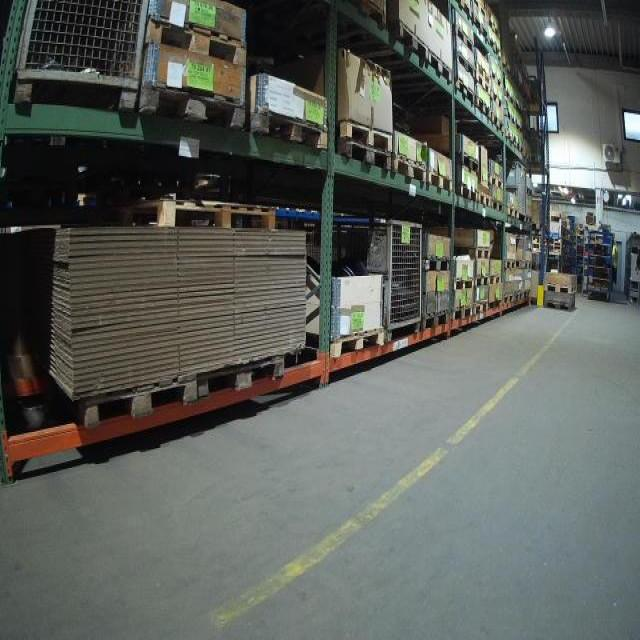pallet: (78, 372, 201, 431), (121, 191, 277, 233), (144, 13, 250, 68), (140, 83, 247, 129), (198, 352, 287, 401), (247, 109, 329, 153), (338, 117, 394, 154), (328, 325, 387, 360), (337, 136, 391, 174), (390, 19, 429, 63), (350, 0, 390, 28), (390, 157, 427, 184), (425, 51, 454, 85), (421, 251, 452, 272), (425, 172, 454, 193), (453, 23, 474, 52), (421, 310, 451, 330), (454, 77, 475, 104), (455, 245, 490, 260), (455, 152, 480, 173), (454, 52, 475, 77), (455, 183, 479, 202), (471, 14, 489, 39), (475, 95, 492, 120), (544, 283, 578, 295), (544, 299, 575, 311), (451, 305, 474, 321), (475, 72, 491, 94), (454, 0, 472, 18), (453, 277, 475, 291), (488, 173, 504, 190), (487, 19, 501, 37), (491, 114, 504, 132), (473, 0, 486, 17), (491, 71, 503, 89), (492, 91, 504, 109), (491, 199, 505, 213), (474, 275, 489, 288), (474, 301, 489, 314), (479, 192, 491, 207), (504, 258, 516, 270), (507, 207, 519, 218), (489, 276, 502, 285), (503, 294, 514, 304), (515, 292, 524, 301), (522, 261, 532, 269), (524, 215, 532, 223)
stillage: (289, 205, 431, 343), (14, 0, 151, 126)
